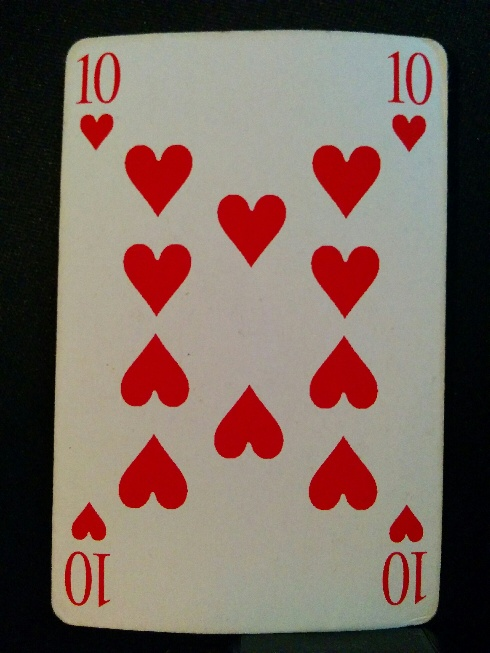H10: (59, 500, 118, 611), (384, 48, 439, 153), (72, 46, 125, 153), (381, 502, 430, 612)
